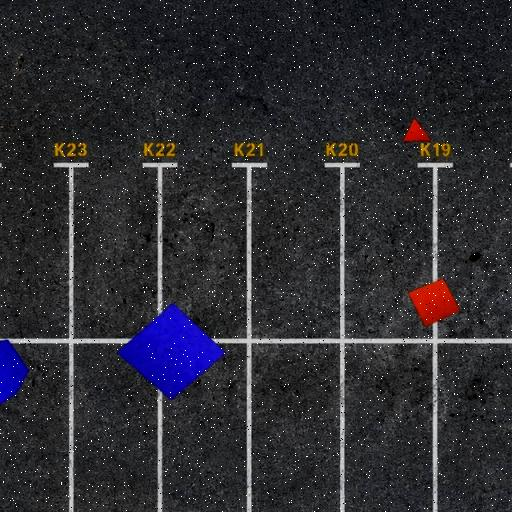BLUE_SQUARE: (116, 302, 227, 401)
RED_SQUARE: (407, 278, 462, 328)
